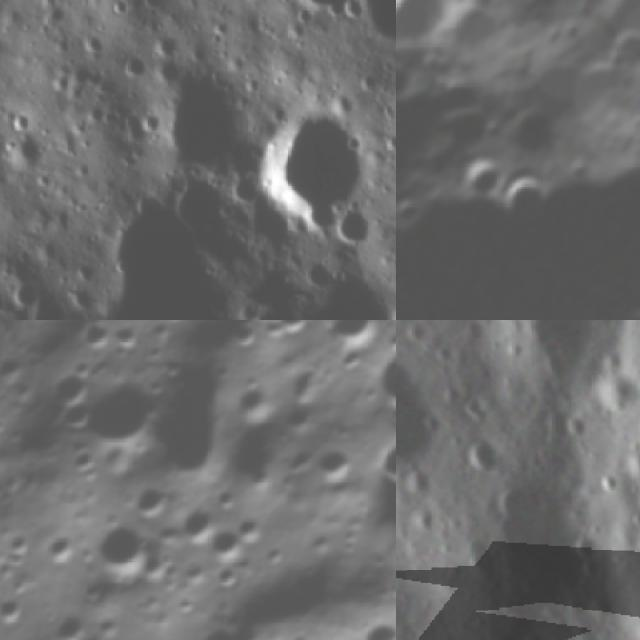crater: (120, 342, 276, 498), (245, 101, 382, 229), (56, 356, 173, 474), (335, 387, 396, 593), (148, 54, 248, 178), (396, 345, 471, 498), (80, 510, 164, 592), (488, 156, 562, 231), (354, 320, 396, 434), (396, 0, 473, 61), (589, 2, 640, 86), (585, 359, 640, 433), (443, 146, 508, 208), (41, 356, 104, 419), (453, 430, 515, 491), (225, 374, 285, 434), (129, 541, 184, 596), (49, 392, 104, 447), (35, 523, 88, 576), (320, 320, 392, 359), (281, 360, 332, 411), (62, 438, 113, 489), (310, 440, 362, 490), (202, 523, 250, 571), (226, 506, 274, 553), (0, 519, 46, 568), (366, 423, 396, 495), (182, 613, 259, 640), (282, 0, 369, 23), (0, 583, 37, 637), (73, 320, 124, 359), (48, 603, 100, 640), (504, 611, 567, 640), (207, 557, 249, 599), (612, 436, 640, 498), (349, 610, 396, 640), (207, 482, 242, 518), (227, 320, 264, 350), (146, 320, 183, 346), (271, 320, 318, 338), (481, 320, 536, 334), (512, 0, 561, 13), (156, 320, 196, 331)
